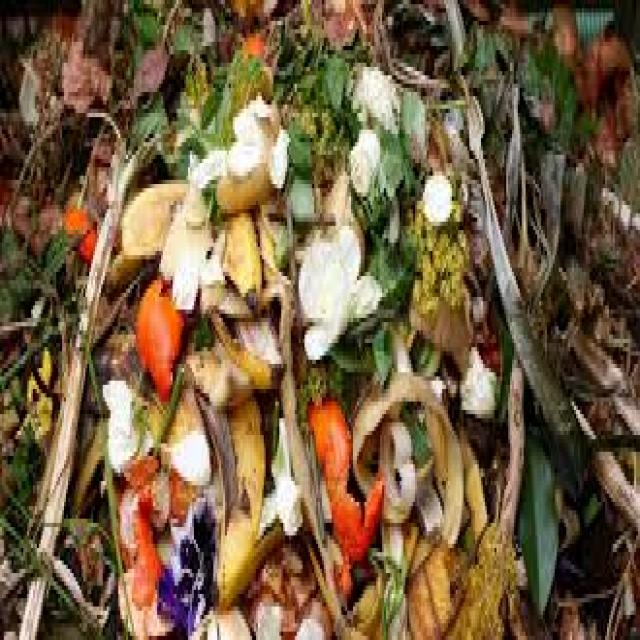food_waste: (27, 52, 597, 583)
